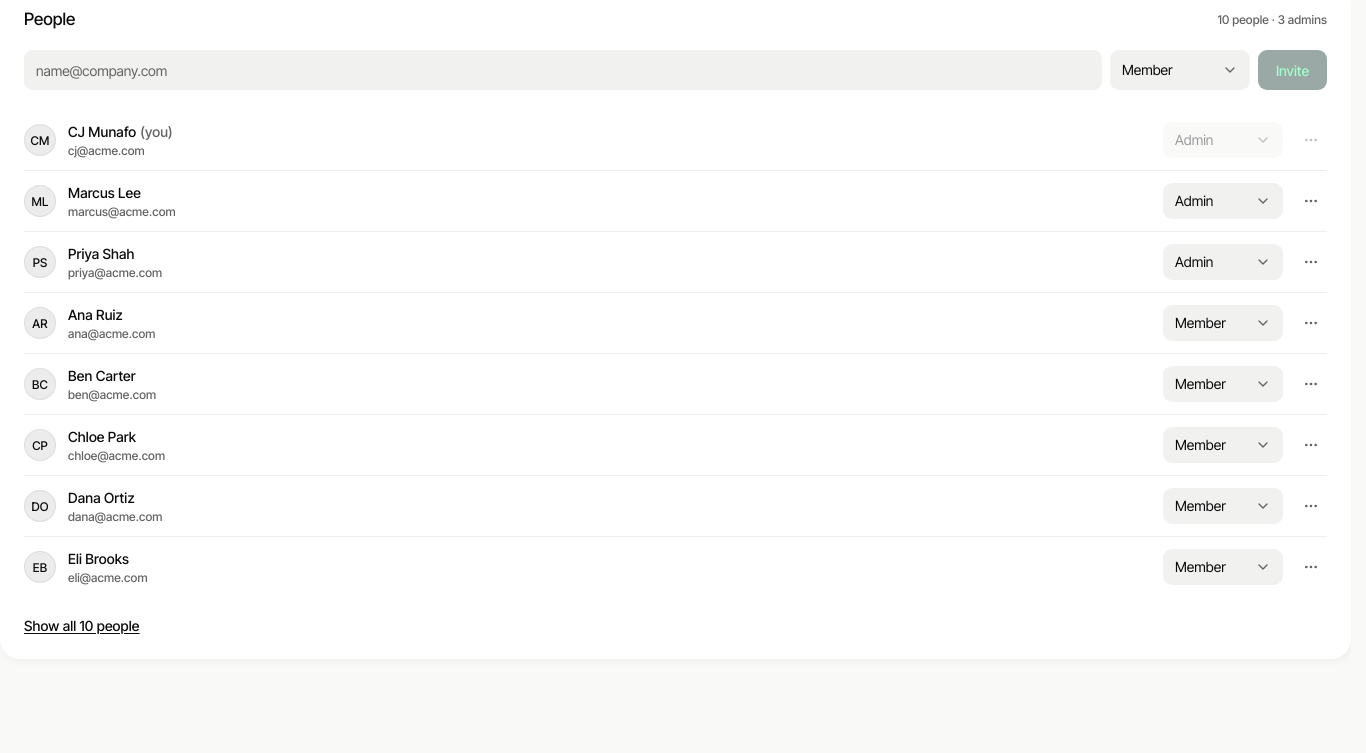
Scenario: PeopleSection (PHASE-7 §9 D2, D8) › lists you, then admins, then members, eight at a time
This screenshot has width=1366, height=753.
Expected: the text "10 people · 3 admins" is shown, [1217,12,1327,27]
Expected: the list item "ML Marcus Lee marcus@acme.com Admin" is shown, [24,170,1327,231]
Click the button "Show all 10 people" at (82, 626), box [24,617,140,635]
(page scrolled)
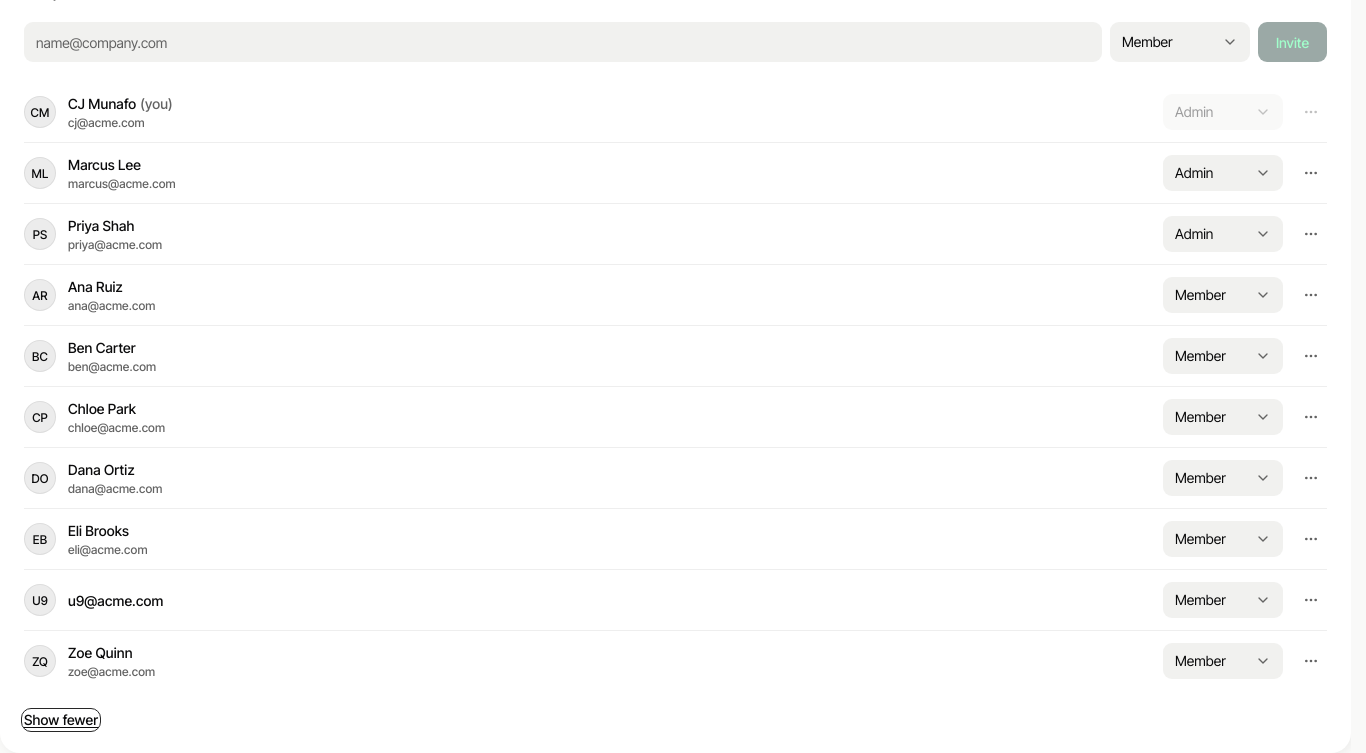
Now the number of list items is 10
Now the text "u9@acme.com" is shown, box [68,592,163,609]
Now the button "Show fewer" is shown, box [24,711,98,729]
